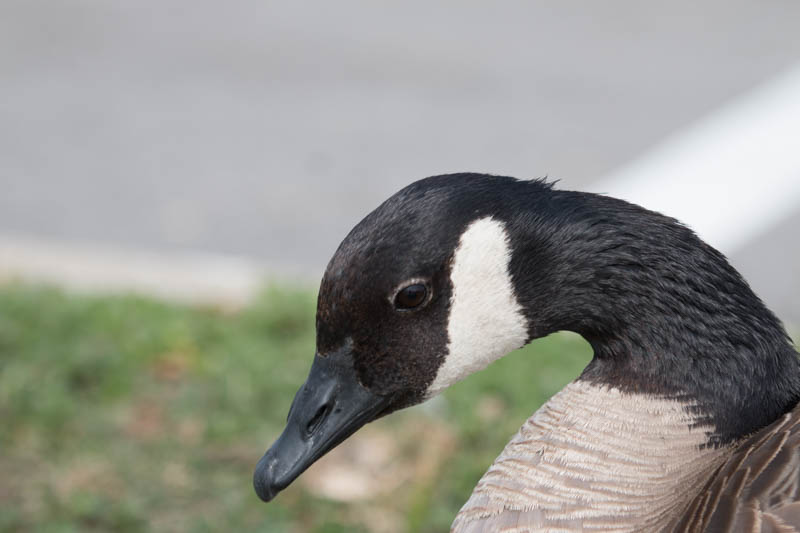goose-head: (254, 174, 552, 504)
